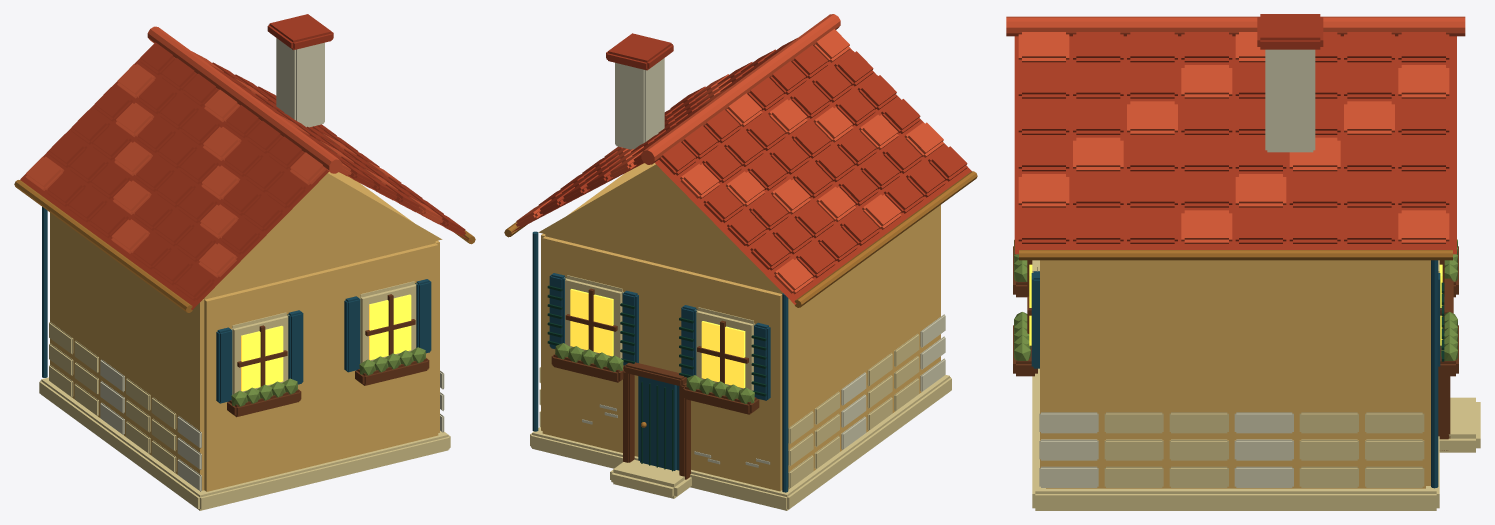
The model's file is house_1.glb.
The picture shows the model from 3 angles, left to right: view 1: azimuth 30°, elevation 25°; view 2: azimuth 150°, elevation 25°; view 3: azimuth 270°, elevation 25°; orthographic projection. The views are drawn at different scales.
Visible parts, largest first — view 1: House.001Mesh; view 2: House.001Mesh; view 3: House.001Mesh.
Boxes of the visible parts, x1,y1,x2,y2 form: House.001Mesh: (14, 14, 475, 510); House.001Mesh: (504, 14, 977, 510); House.001Mesh: (1006, 14, 1480, 510).
Size of the model in its own units: 5.07 by 6.03 by 5.68.
